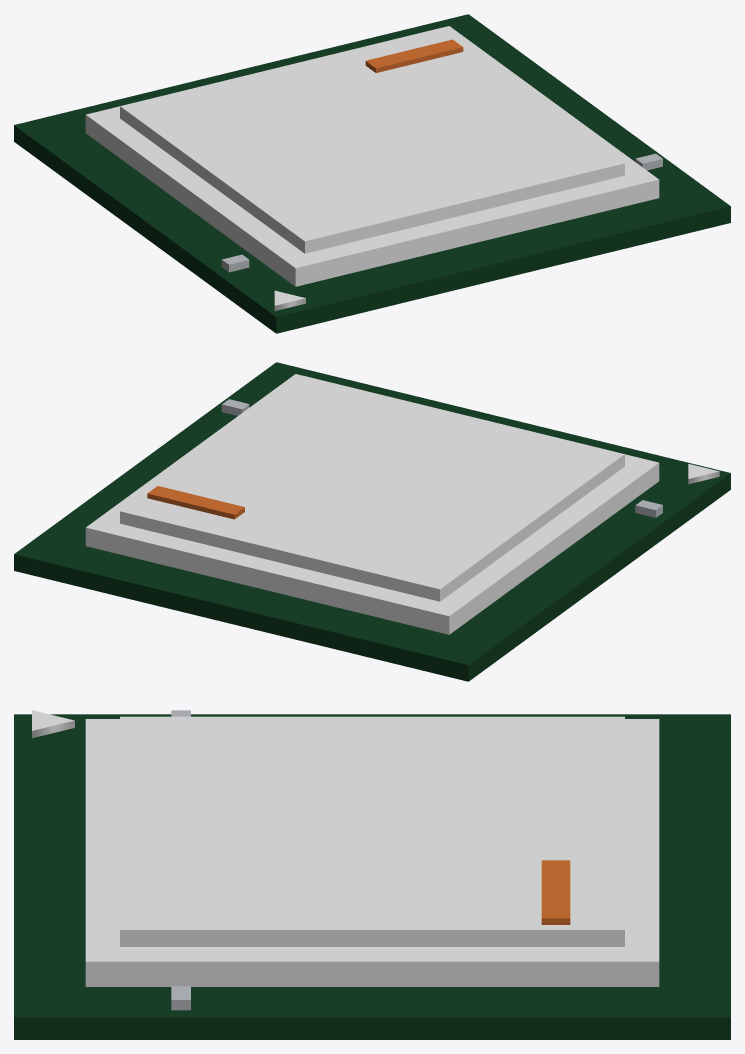
Rendered from hw_cpu_athlon_3000g.glb.
The picture shows the model from 3 angles, top to bottom: view 1: azimuth 30°, elevation 25°; view 2: azimuth 150°, elevation 25°; view 3: azimuth 270°, elevation 25°; orthographic projection. The views are drawn at different scales.
Parts seen in each view (by area): view 1: Body; view 2: Body; view 3: Body.
Boxes of the visible parts, box(x1,y1,x2,y2) form: Body: box(14, 14, 730, 333); Body: box(14, 362, 730, 681); Body: box(14, 710, 730, 1039).
Size of the model in its own units: 0.04 by 0.00467 by 0.04.
